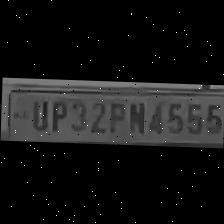2: (86, 96, 108, 133)
3: (66, 95, 86, 132)
4: (145, 97, 165, 134)
5: (163, 97, 185, 133), (183, 98, 203, 134), (202, 99, 222, 134)
N: (124, 98, 146, 134)
P: (105, 95, 125, 133), (47, 95, 67, 131)
U: (25, 96, 47, 130)
